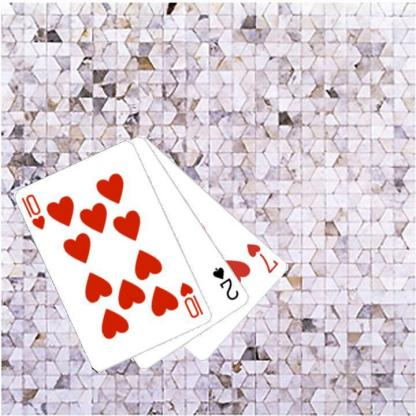10H: (177, 280, 205, 320), (19, 191, 47, 231)
2S: (210, 264, 241, 302)
7H: (244, 240, 280, 275)
